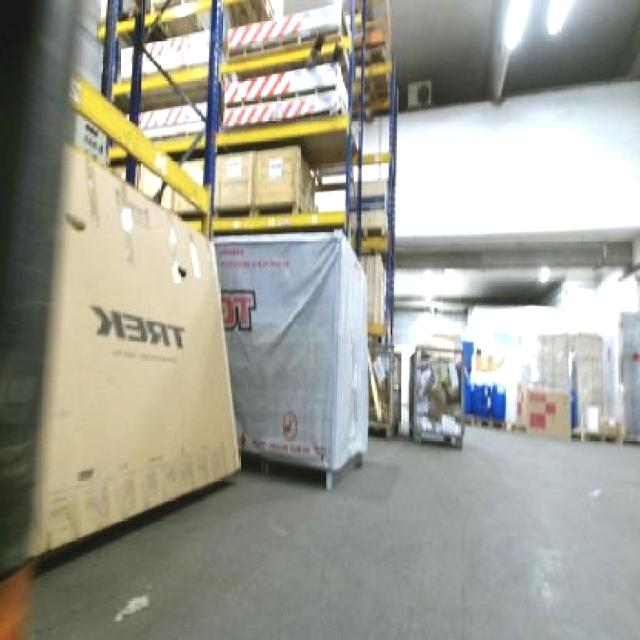floor: (31, 426, 637, 637)
pallets: (26, 145, 235, 552), (214, 232, 365, 485), (409, 345, 462, 446)
